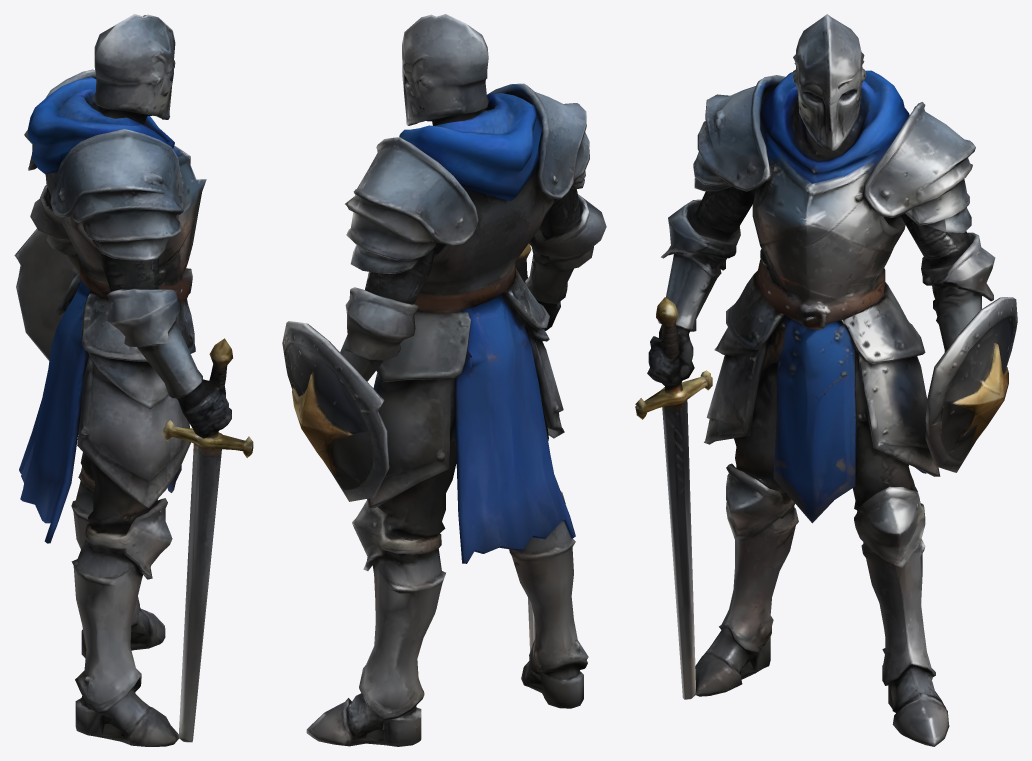
The picture shows the model from 3 angles, left to right: view 1: azimuth 30°, elevation 25°; view 2: azimuth 150°, elevation 25°; view 3: azimuth 270°, elevation 25°; orthographic projection. The views are drawn at different scales.
Parts seen in each view (by area): view 1: tripo_node_b79ddd1e-9cdf-45ec-ad16-c8c1ff9ddc97; view 2: tripo_node_b79ddd1e-9cdf-45ec-ad16-c8c1ff9ddc97; view 3: tripo_node_b79ddd1e-9cdf-45ec-ad16-c8c1ff9ddc97.
Part boxes in pixels (x1,y1,x2,y2): tripo_node_b79ddd1e-9cdf-45ec-ad16-c8c1ff9ddc97: (14, 14, 253, 746); tripo_node_b79ddd1e-9cdf-45ec-ad16-c8c1ff9ddc97: (282, 14, 606, 746); tripo_node_b79ddd1e-9cdf-45ec-ad16-c8c1ff9ddc97: (635, 14, 1017, 746).
Bounding box in the file's own units: 0.3262 × 0.998 × 0.502.
Materials: 1 (1 with a texture image).
